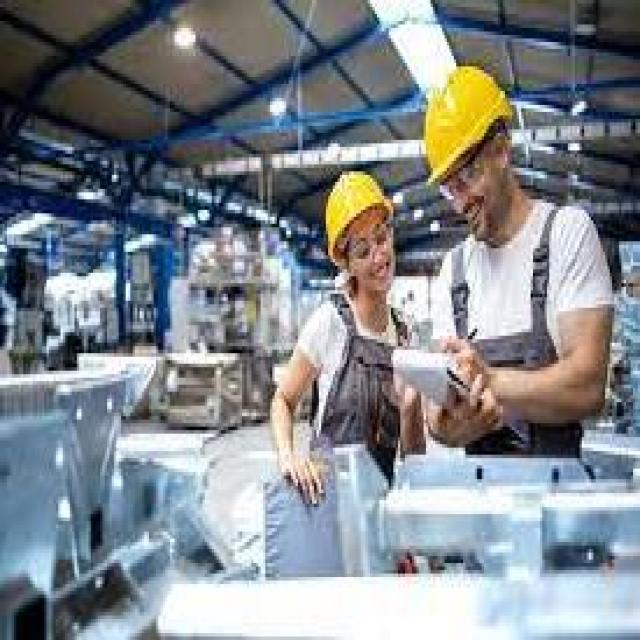Safety-Helmet: (412, 63, 521, 196), (312, 161, 402, 262)
